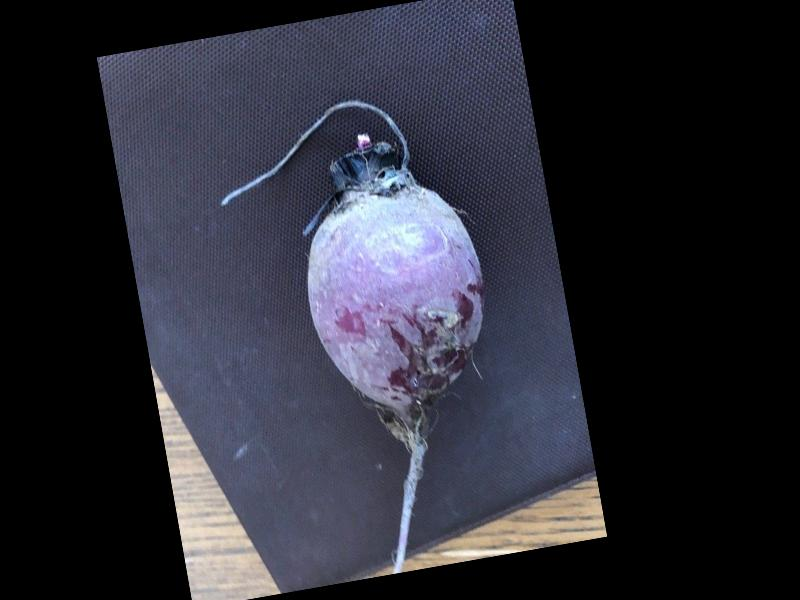Beet: (206, 82, 531, 592)
